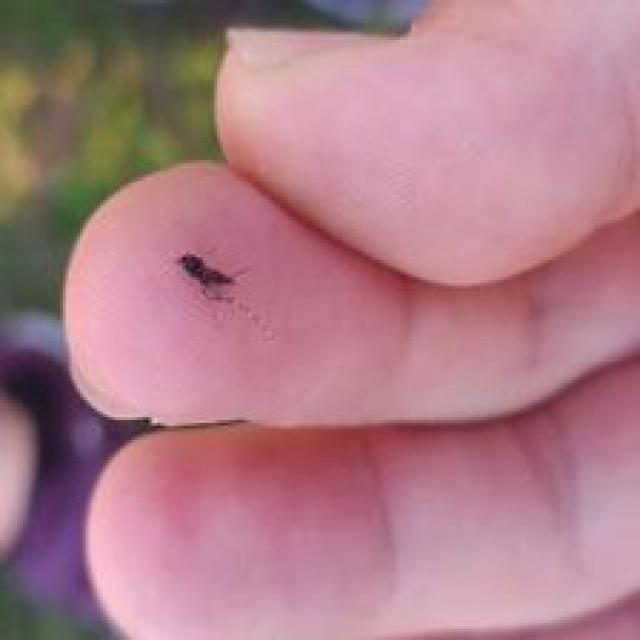Aedes albopictus: (176, 248, 238, 303)
